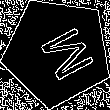M_SW: (24, 19, 91, 84)
